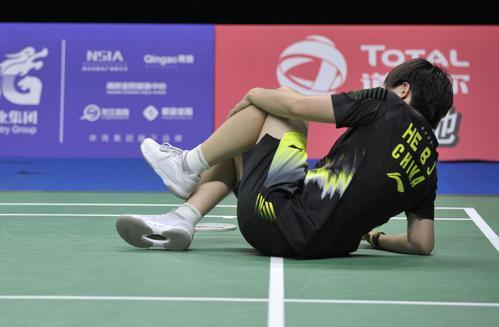Fall-Detected: (113, 43, 447, 256)
